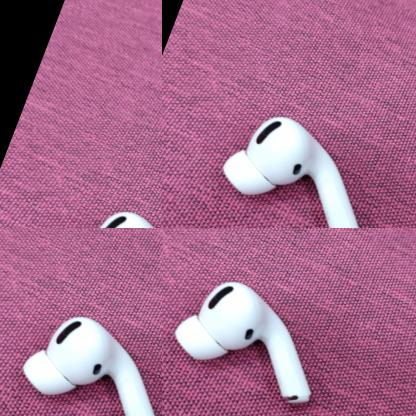Airpods: (162, 256, 352, 416), (78, 242, 162, 368), (358, 0, 411, 47), (303, 0, 357, 27)
